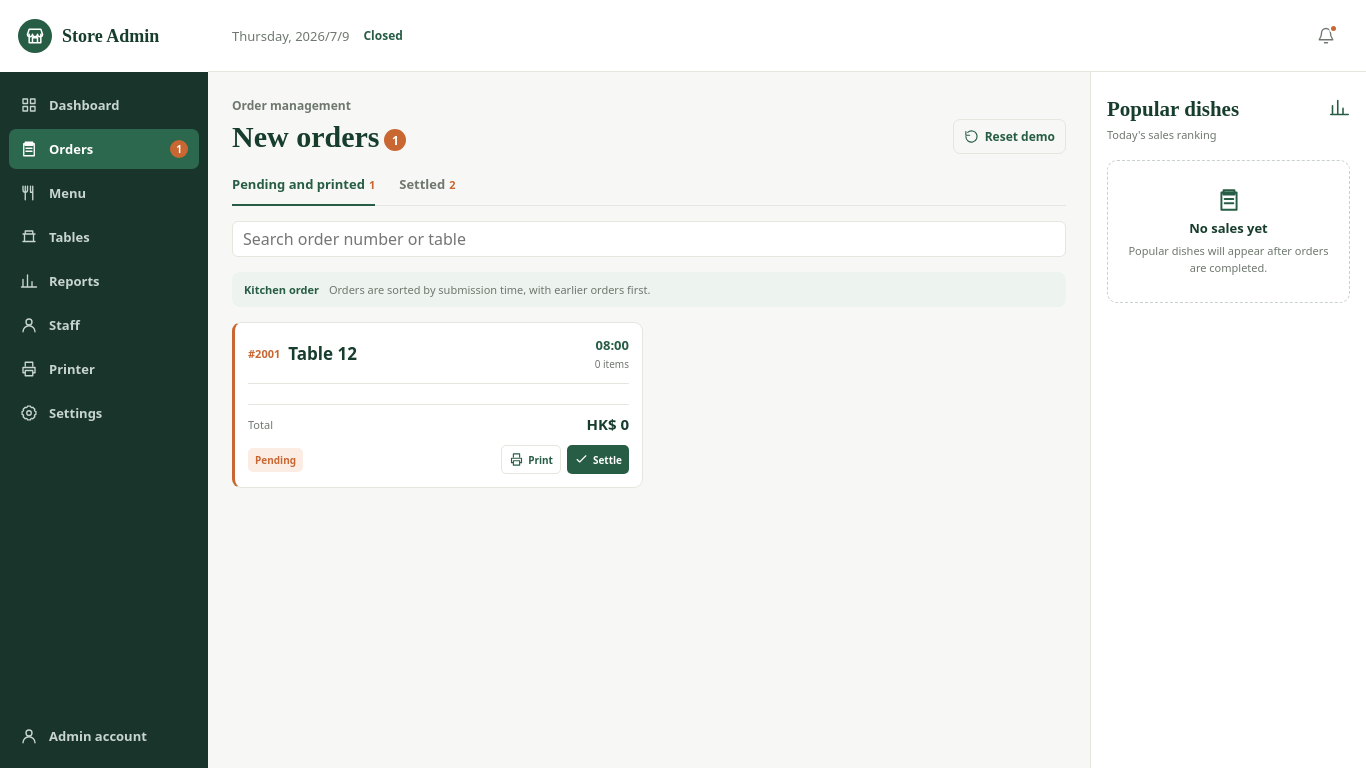
Test: AdminApp store integration › filters settled orders by order query and inclusive settlement date
Click the button "Settled2". click: (427, 190)
box: [399, 175, 456, 205]
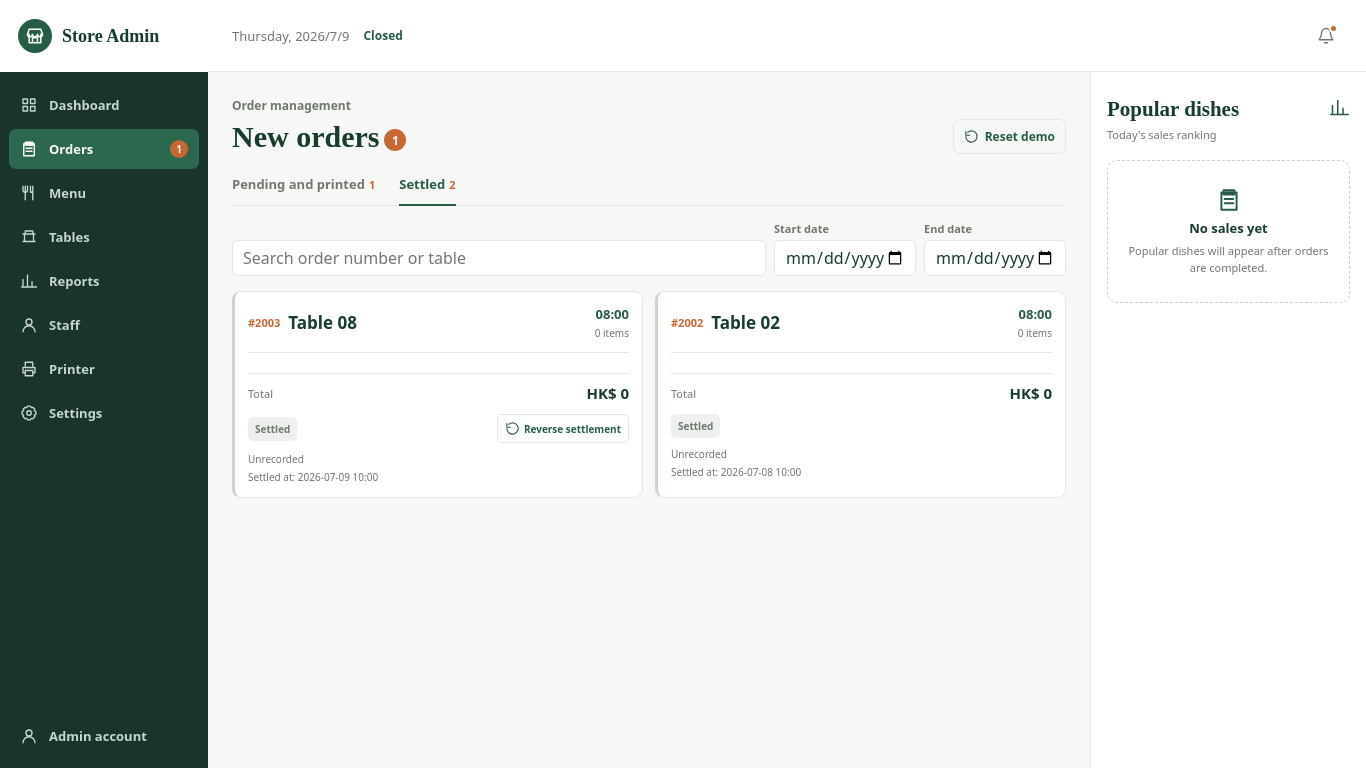
Expected: the text "Start date" is shown, [774, 221, 829, 236]
Expected: the text "End date" is shown, [924, 221, 972, 236]
Type "custom" into the search field labelled "Search order number or table". click: (499, 258)
box: [232, 240, 766, 276]
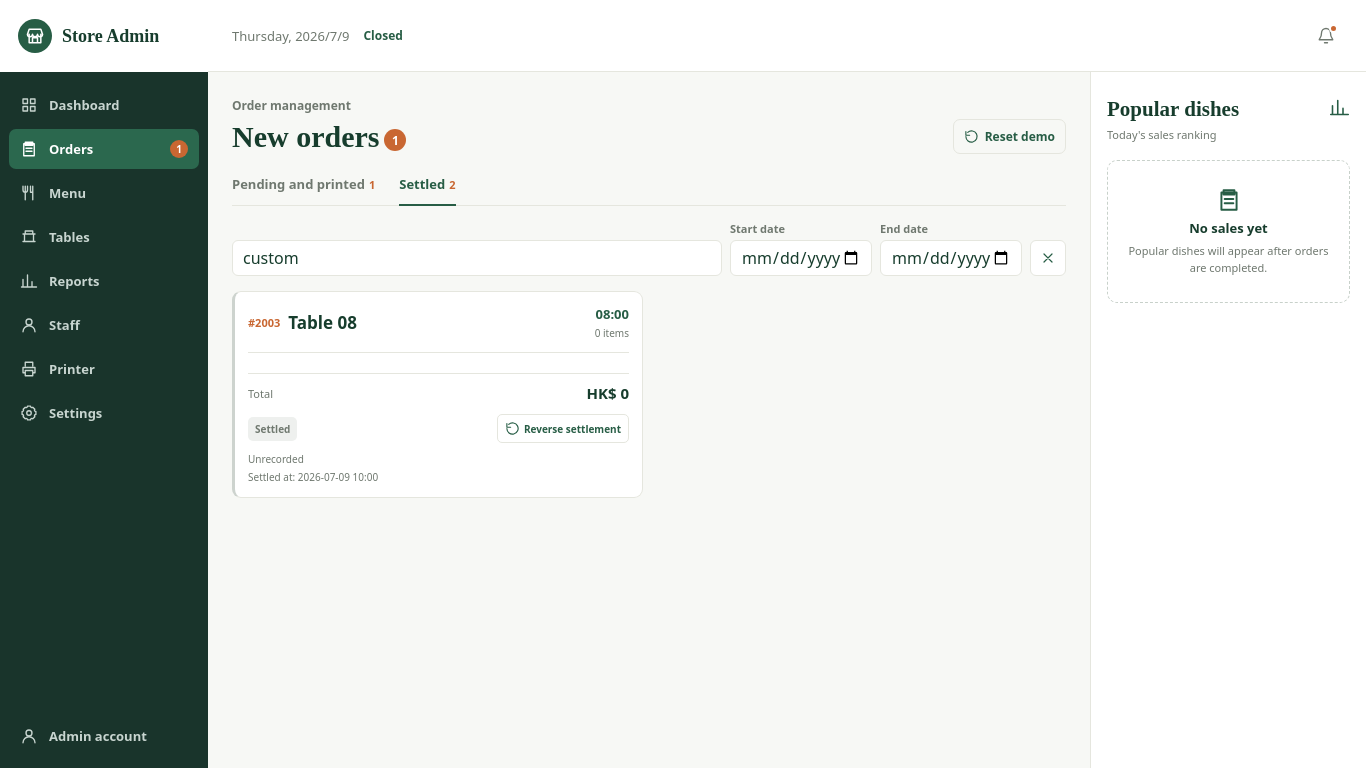
Expected: the text "#2003" is shown, [248, 315, 280, 330]
Expected: the text "#2002" is gone
Clear the search field named "Search order number or table". click: (477, 258)
box: [232, 240, 722, 276]
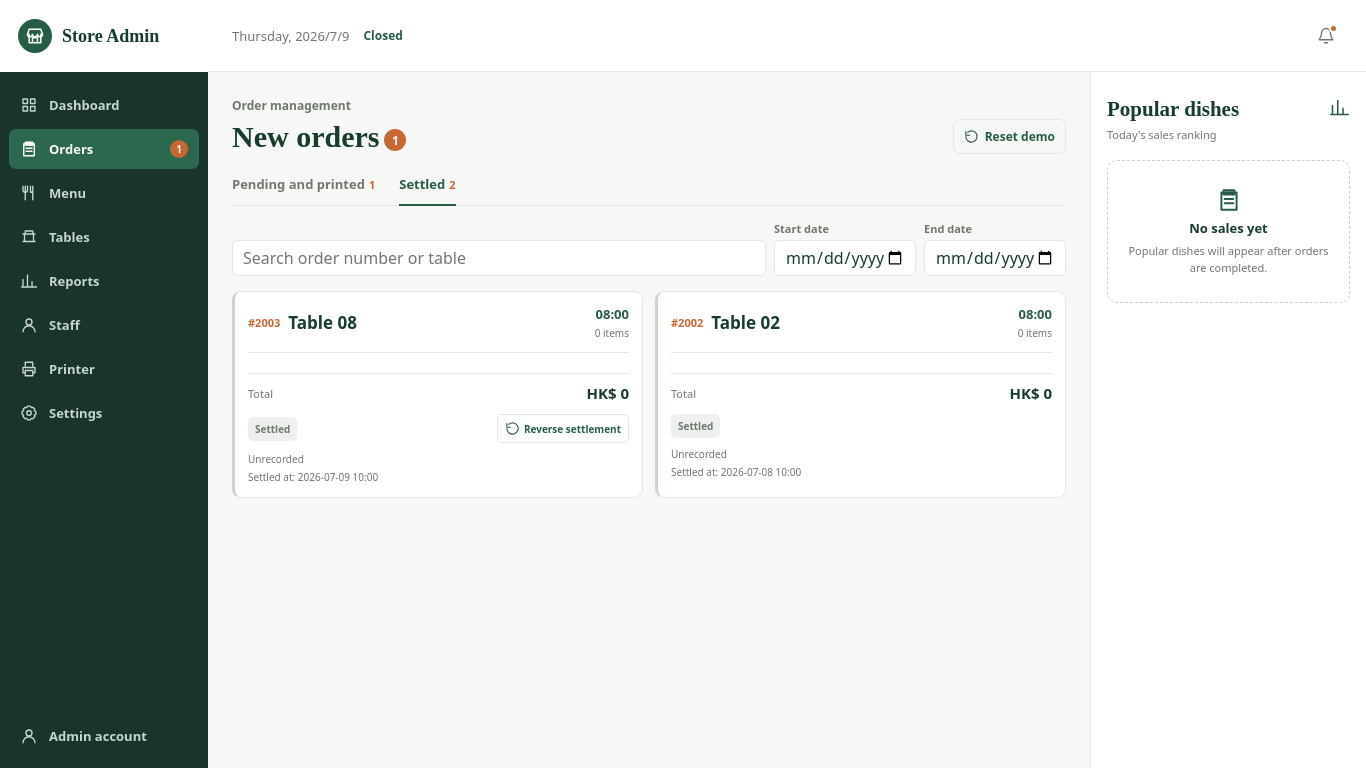
Type "2026-07-09" into the date field labelled "Start date". click: (845, 258)
box: [774, 240, 916, 276]
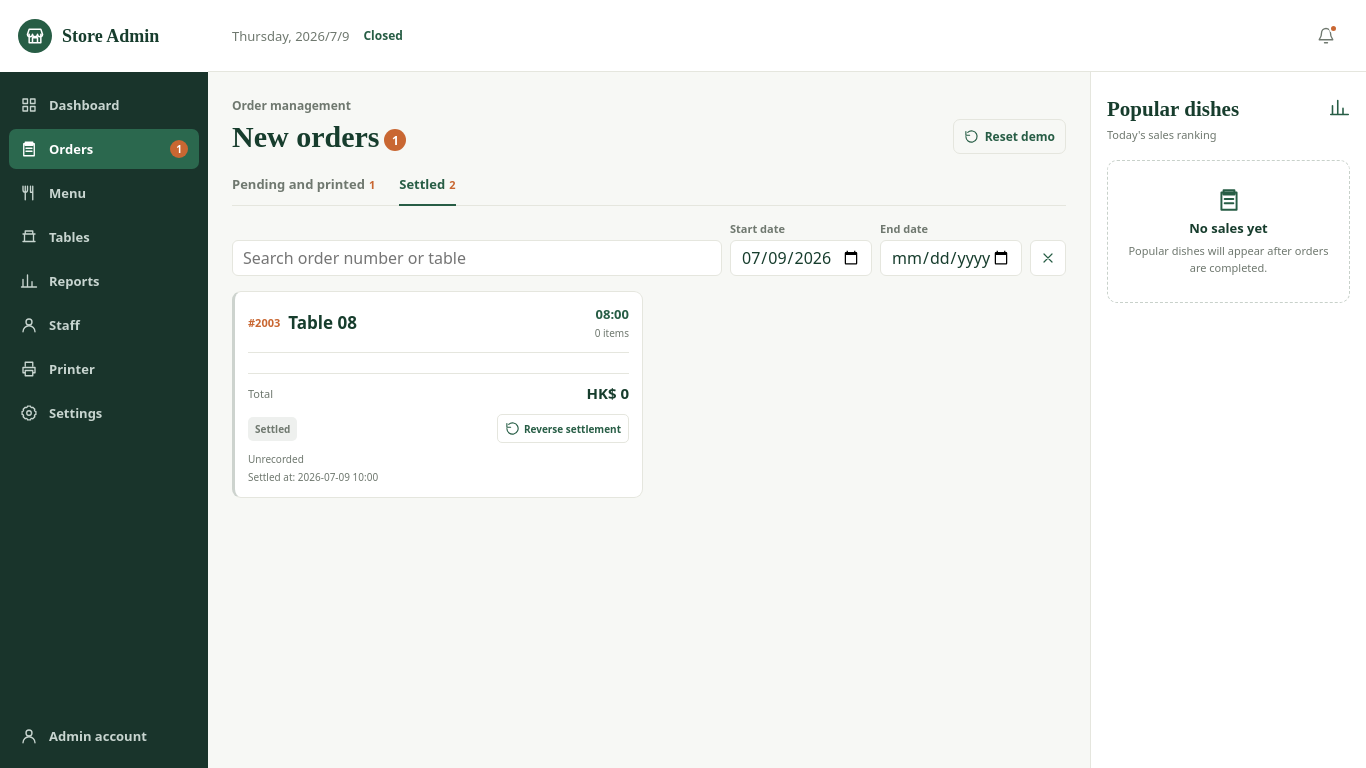
Type "2026-07-09" into the date field labelled "End date". click: (951, 258)
box: [880, 240, 1022, 276]
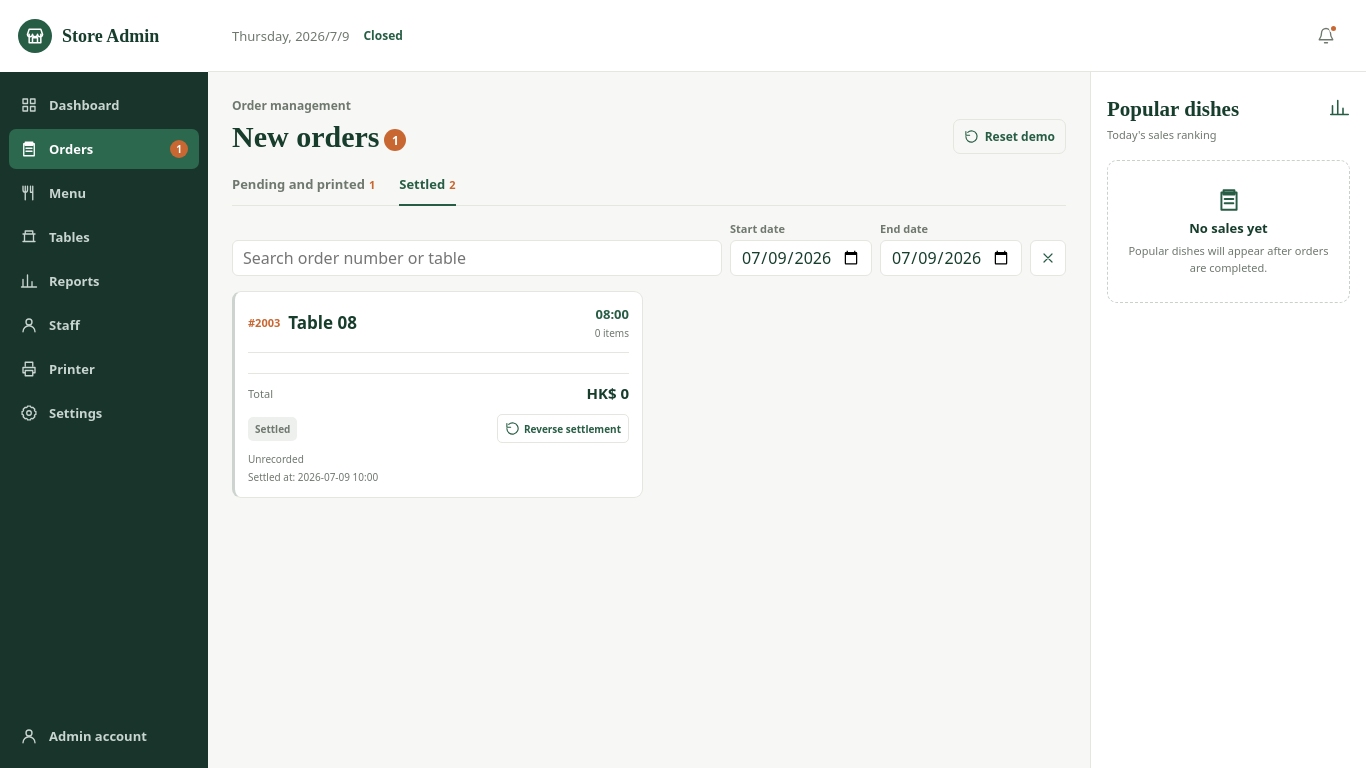
Expected: the text "#2002" is not shown
Expected: the text "#2003" is shown, [248, 315, 280, 330]
Type "2026-07-10" into the date field labelled "Start date". click: (801, 258)
box: [730, 240, 872, 276]
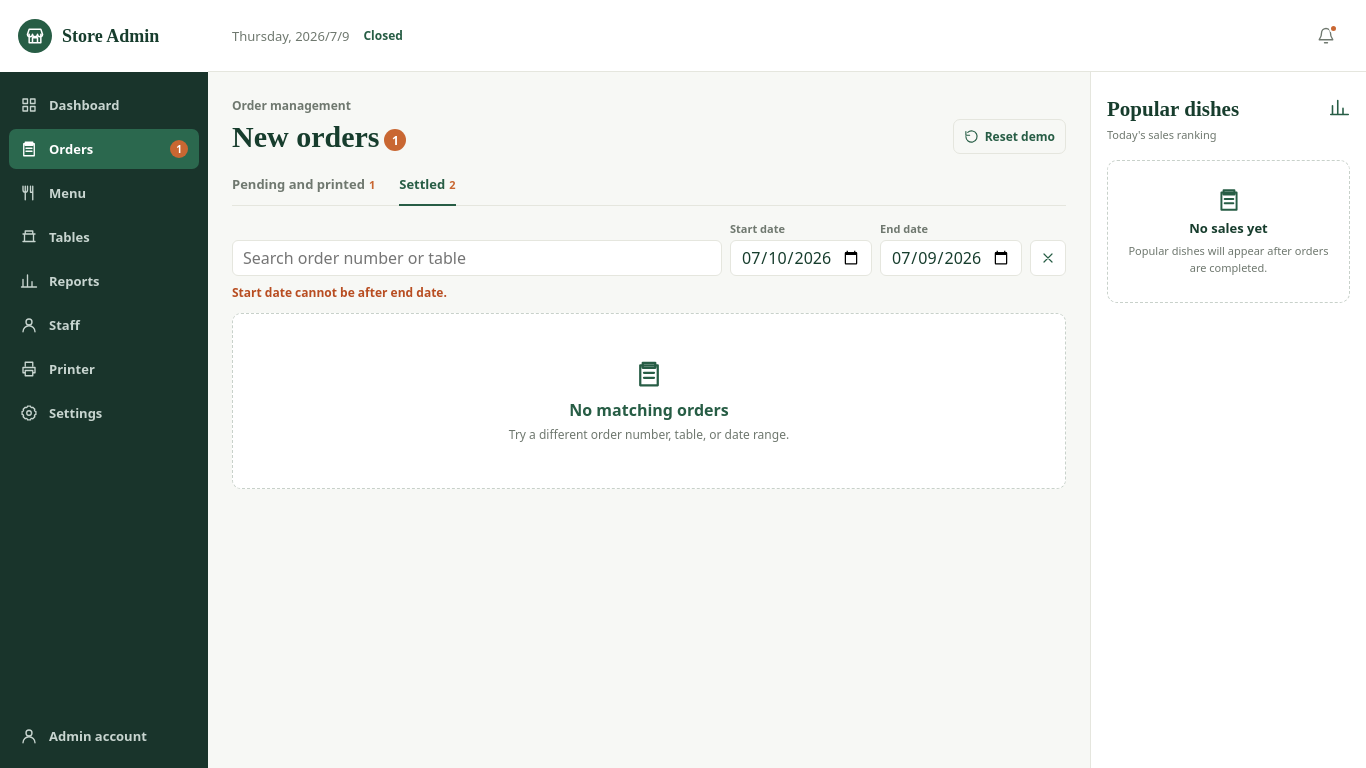
Expected: the message reads "Start date cannot be after end date.", [232, 284, 447, 301]
Expected: the heading "No matching orders" is shown, [569, 399, 729, 421]
